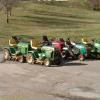Tractor: (9, 26, 67, 83)
